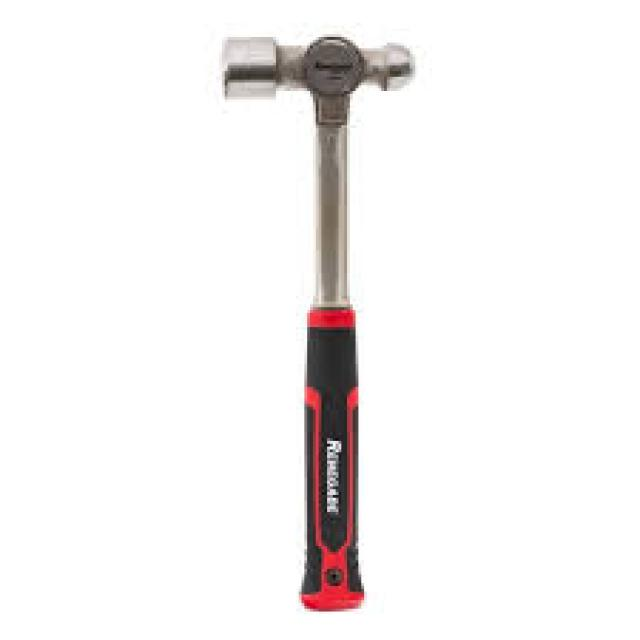hammer: (199, 0, 437, 531)
